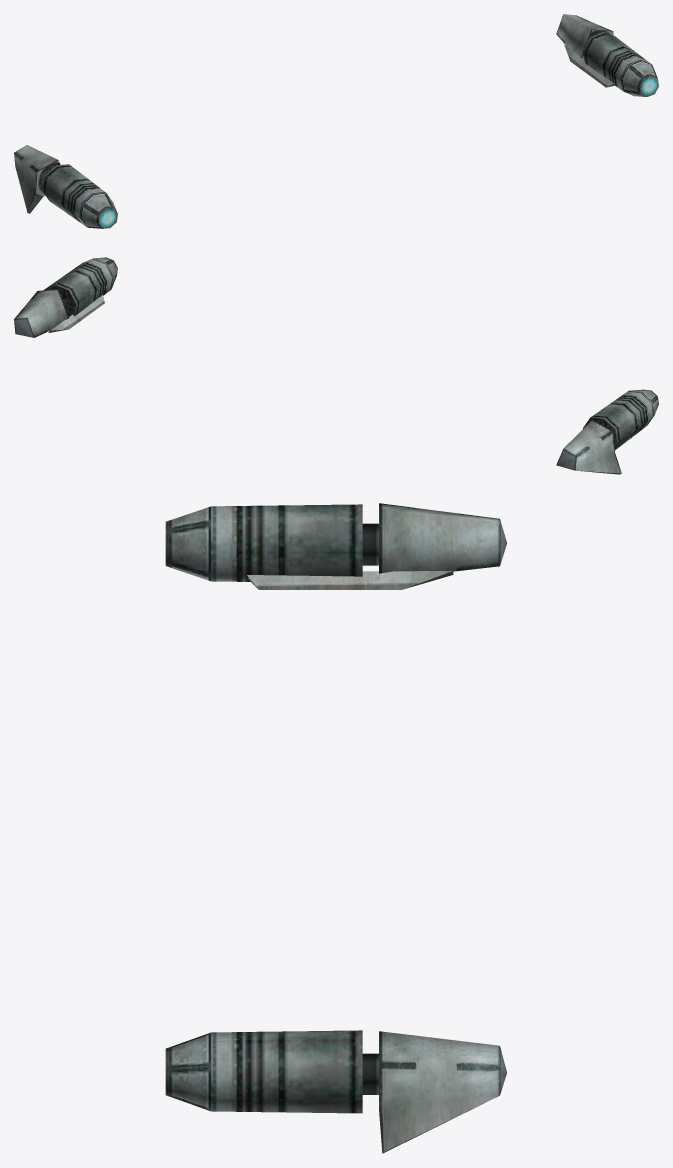
Rendered from black_sun_fighter_medium_weapon2_s02_l1.fbx.
3 renders of one model, top to bottom at view 1: azimuth 30°, elevation 25°; view 2: azimuth 150°, elevation 25°; view 3: azimuth 270°, elevation 25°, orthographic. The views are drawn at different scales.
Visible parts, largest first — view 1: mesh_node; view 2: mesh_node; view 3: mesh_node.
Part boxes in pixels (left/top/right/bottom): mesh_node: left=14, top=14, right=658, bottom=228; mesh_node: left=14, top=257, right=658, bottom=474; mesh_node: left=165, top=503, right=506, bottom=1153.
Bounding box in the file's own units: 7.73 × 0.5929 × 1.92.
Materials: 1 (1 with a texture image).
